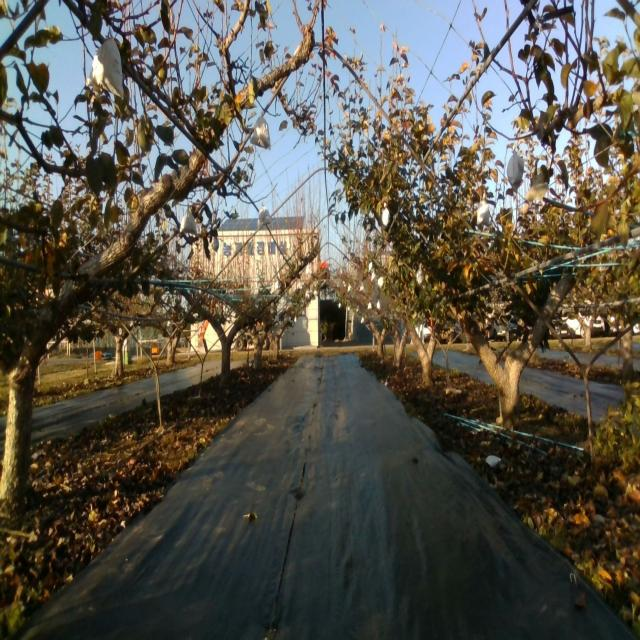pearbags: (86, 37, 124, 98), (250, 114, 272, 152), (507, 151, 525, 191), (179, 209, 198, 236), (476, 200, 490, 229), (256, 205, 272, 228)
